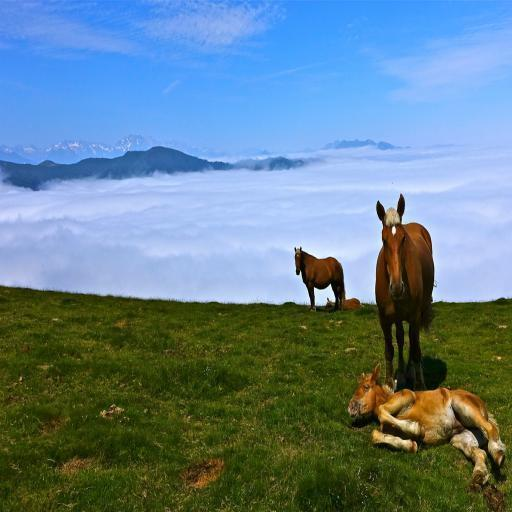horse: (348, 360, 506, 493), (374, 190, 436, 390), (292, 243, 346, 314), (324, 294, 362, 308)
